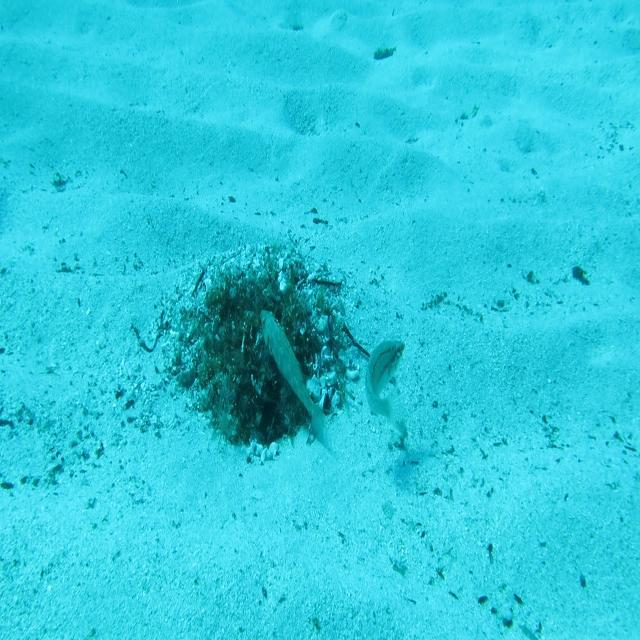BN: (254, 304, 327, 448)
core_nest: (228, 293, 289, 333)
female: (362, 337, 409, 437)
nest: (150, 233, 364, 477)
vegetation: (372, 46, 399, 61)
